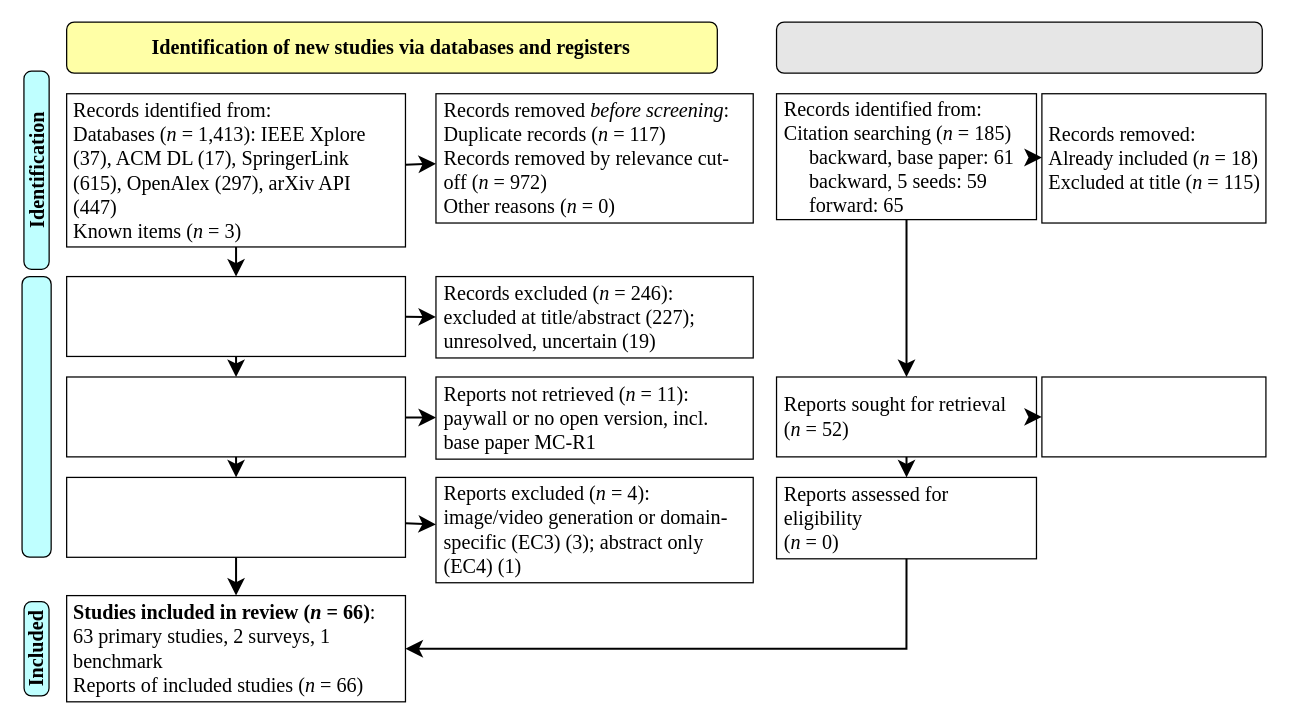
Image size: 1289x725. Some labels were removed from this diagram. Each missing label, with the centre of its shape:
"Identification of new studies via other methods" goes at point 1018,47.
"Records screened ( n = 327)" goes at point 235,315.
"Reports assessed for eligibility ( n = 70)" goes at point 235,516.
"Reports not assessed ( n = 52): awaiting classification" goes at point 1153,416.
"Reports sought for retrieval ( n = 81)" goes at point 235,416.
"Screening" goes at point 36,416.
